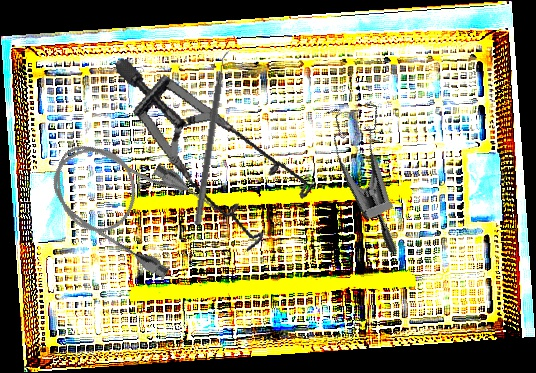Cannula: (34, 117, 224, 287)
Spatula Surgical: (194, 46, 234, 227)
Speculum: (113, 18, 327, 272), (301, 86, 452, 256)
